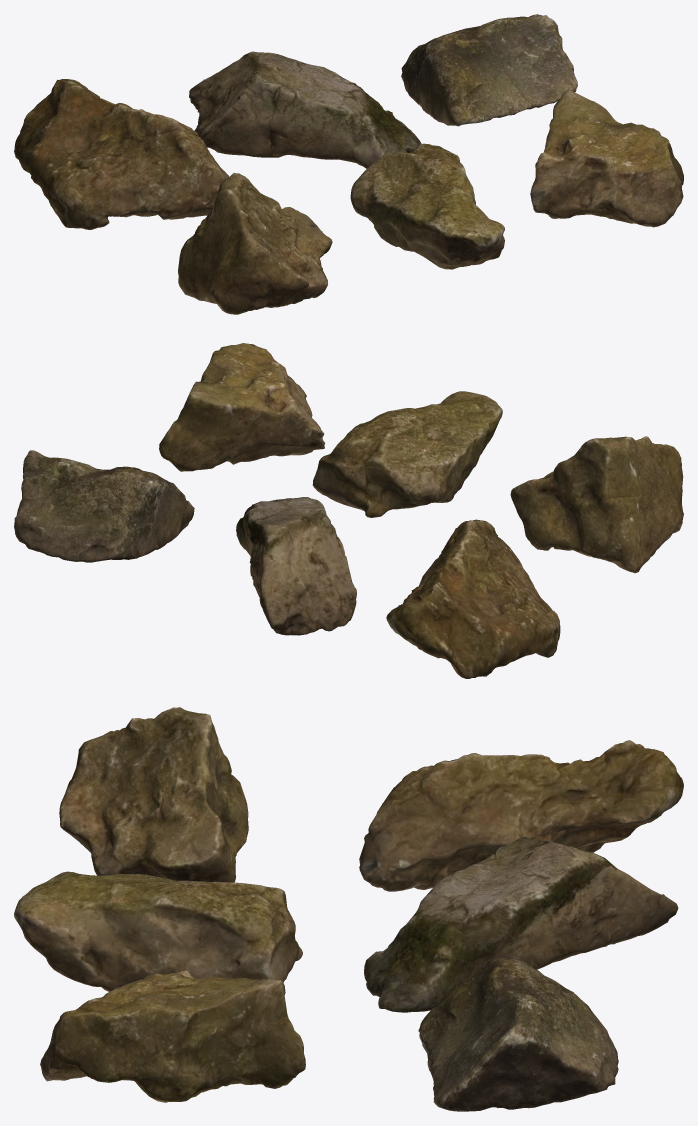
File: rock_moss_set_01.glb
3 renders of one model, top to bottom at view 1: azimuth 30°, elevation 25°; view 2: azimuth 150°, elevation 25°; view 3: azimuth 270°, elevation 25°, orthographic. The views are drawn at different scales.
Visible parts, largest first — view 1: rock_moss_set_01_rock01; view 2: rock_moss_set_01_rock01; view 3: rock_moss_set_01_rock01.
Part boxes in pixels (x1,y1,x2,y2): rock_moss_set_01_rock01: (14, 14, 683, 314); rock_moss_set_01_rock01: (14, 343, 683, 678); rock_moss_set_01_rock01: (14, 707, 683, 1111).
Bounding box in the file's own units: 8 × 1.77 × 6.95.
1 material, 1 textured.
